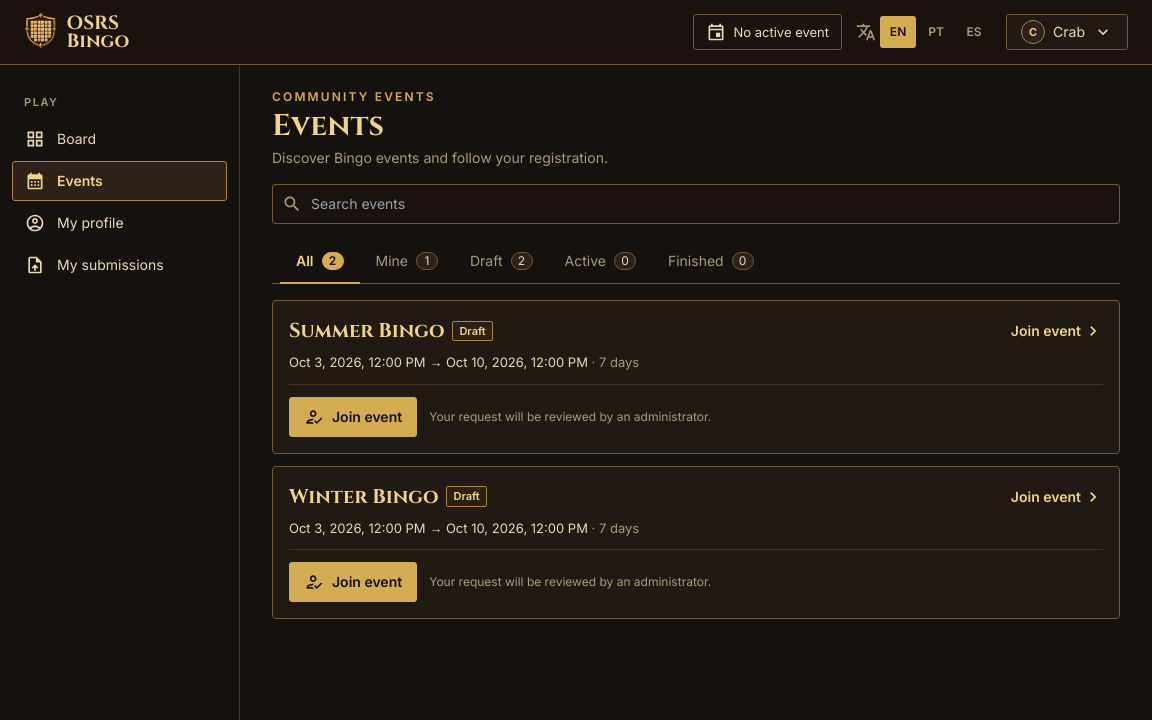
it: filters my events and searches by name
The image size is (1152, 720).
Click the tab "Mine 1".
click(407, 262)  # box [360,240,454,284]
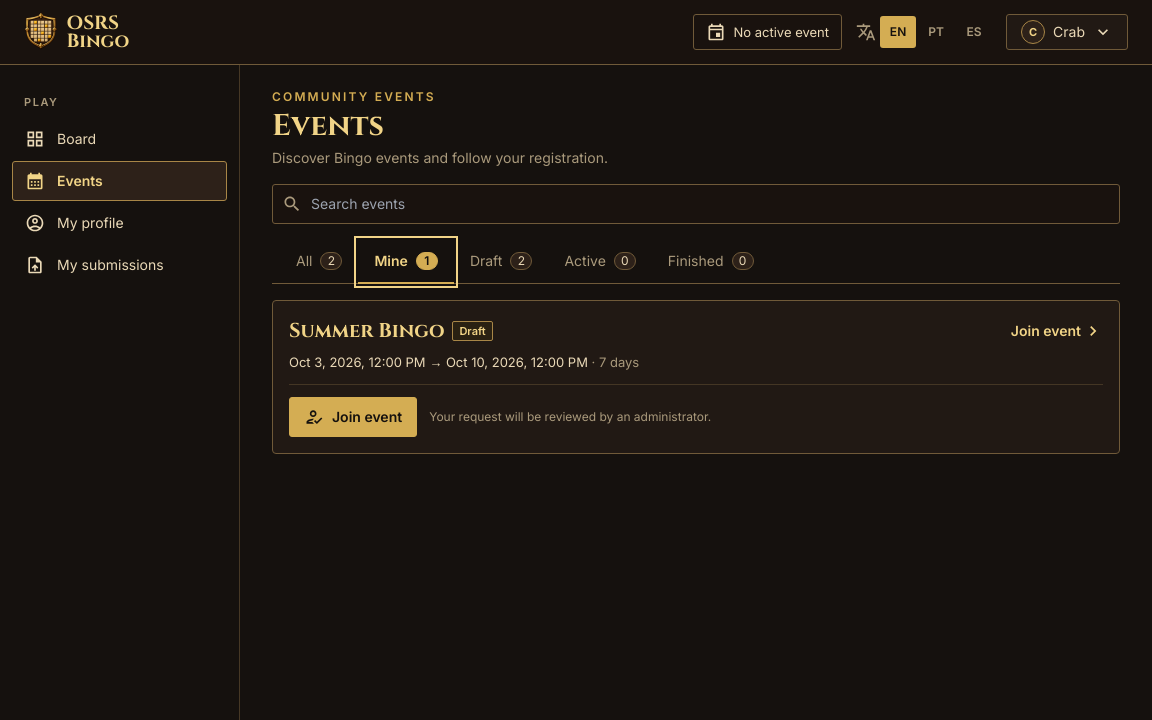
Expected: the heading "Summer Bingo" is shown, [289,317,444,345]
Expected: the link "Winter Bingo" is gone
Click the tab "All 2".
click(319, 262)  # box [280,240,358,284]
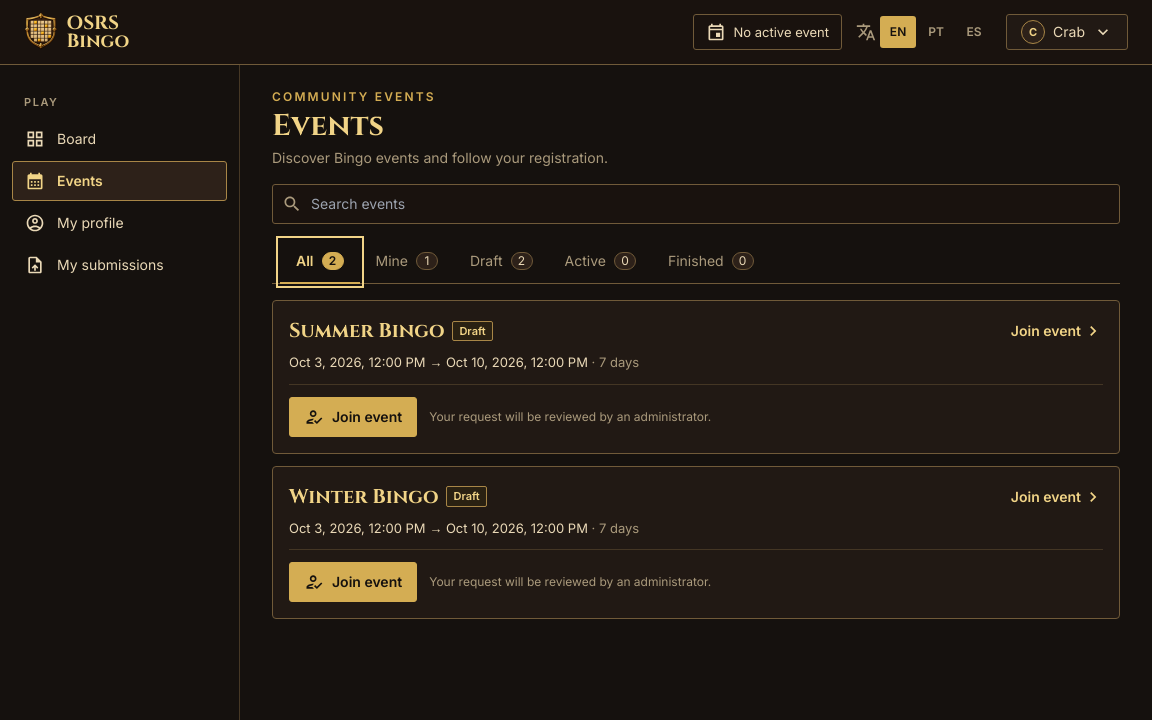
Type "wínter" into the search field labelled "Search events".
click(696, 204); type("wínter")  # box [272,184,1120,224]
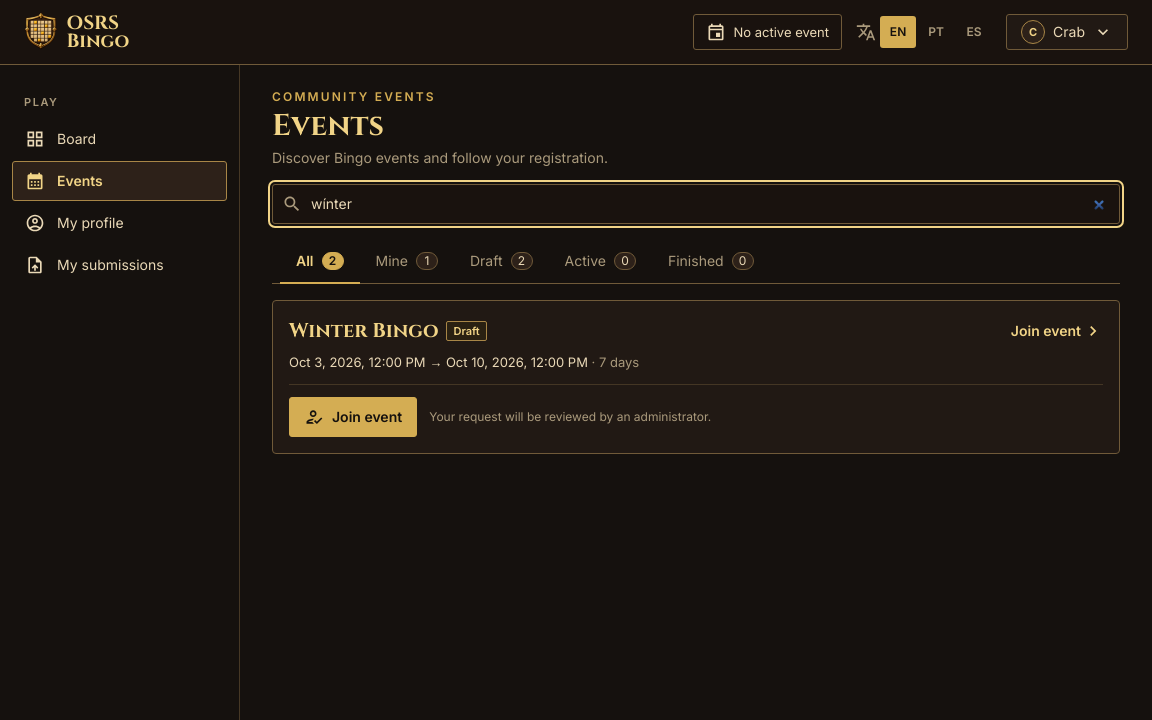
Expected: the heading "Winter Bingo" is shown, [289,317,438,345]
Expected: the link "Summer Bingo" is gone
